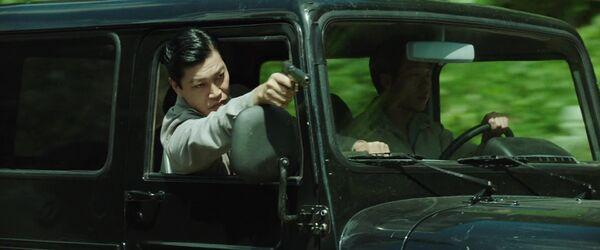Gun: (280, 61, 310, 87)
